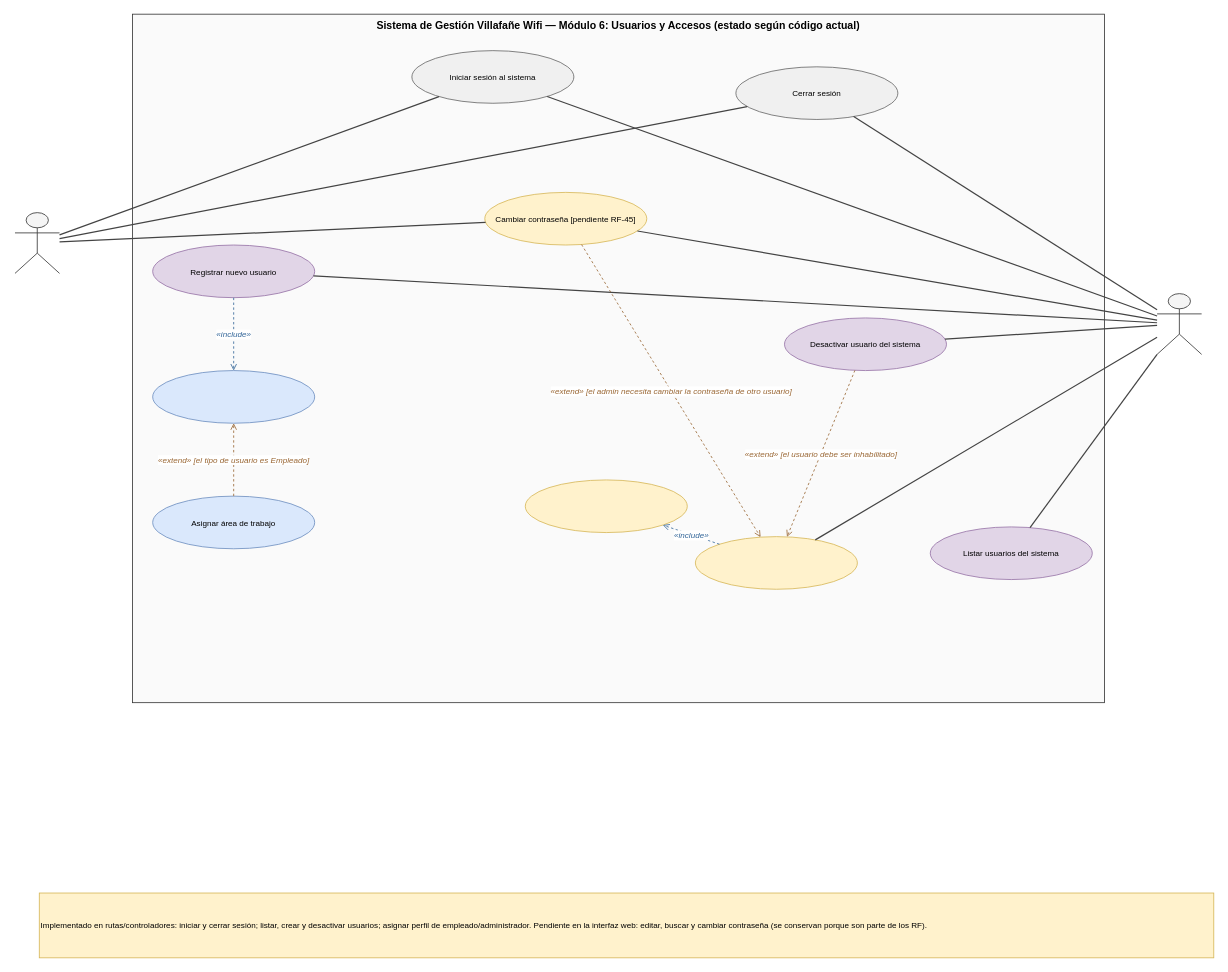
This 1228x972 diagram has some shape labels left out. The centre of each missing label's shape, as x and y in pixels:
Asignar tipo de usuario y nivel de acceso: the point at 233,396
Buscar usuario [pendiente]: the point at 605,506
Dueño / Administrador: the point at 1179,323
Editar datos de usuario [pendiente RF-43]: the point at 776,562
Empleado: the point at 37,242
